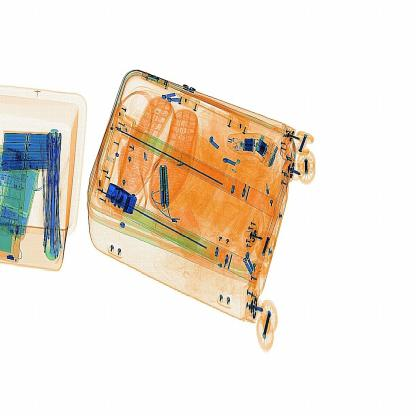scissors: (154, 162, 171, 210)
